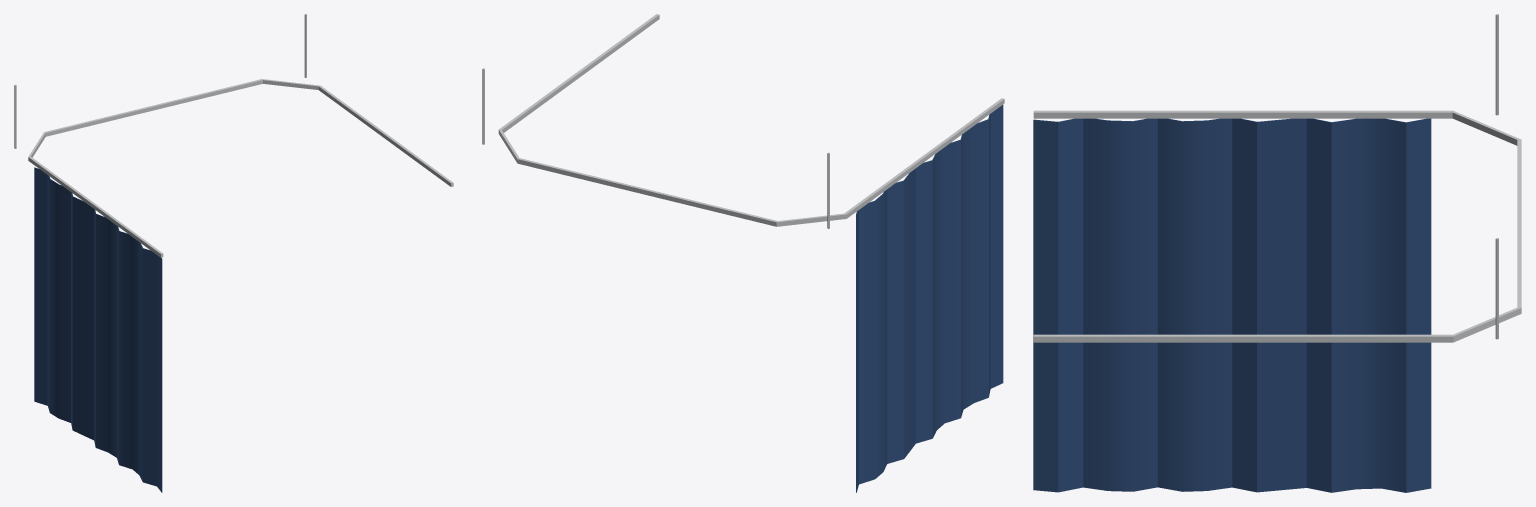
Rendered from hospital.bed.curtain.glb.
3 renders of one model, left to right at view 1: azimuth 30°, elevation 25°; view 2: azimuth 150°, elevation 25°; view 3: azimuth 270°, elevation 25°, orthographic. The views are drawn at different scales.
Parts seen in each view (by area): view 1: main__fabric_blue, main__aluminium; view 2: main__fabric_blue, main__aluminium; view 3: main__fabric_blue, main__aluminium.
Boxes of the visible parts, x1=… form: main__fabric_blue: x1=34, y1=167, x2=162, y2=492; main__aluminium: x1=14, y1=14, x2=453, y2=257; main__fabric_blue: x1=856, y1=105, x2=1003, y2=492; main__aluminium: x1=482, y1=14, x2=1004, y2=228; main__fabric_blue: x1=1033, y1=118, x2=1431, y2=492; main__aluminium: x1=1033, y1=14, x2=1521, y2=342.
Size of the model in its own units: 2.44 by 2.38 by 2.21.
